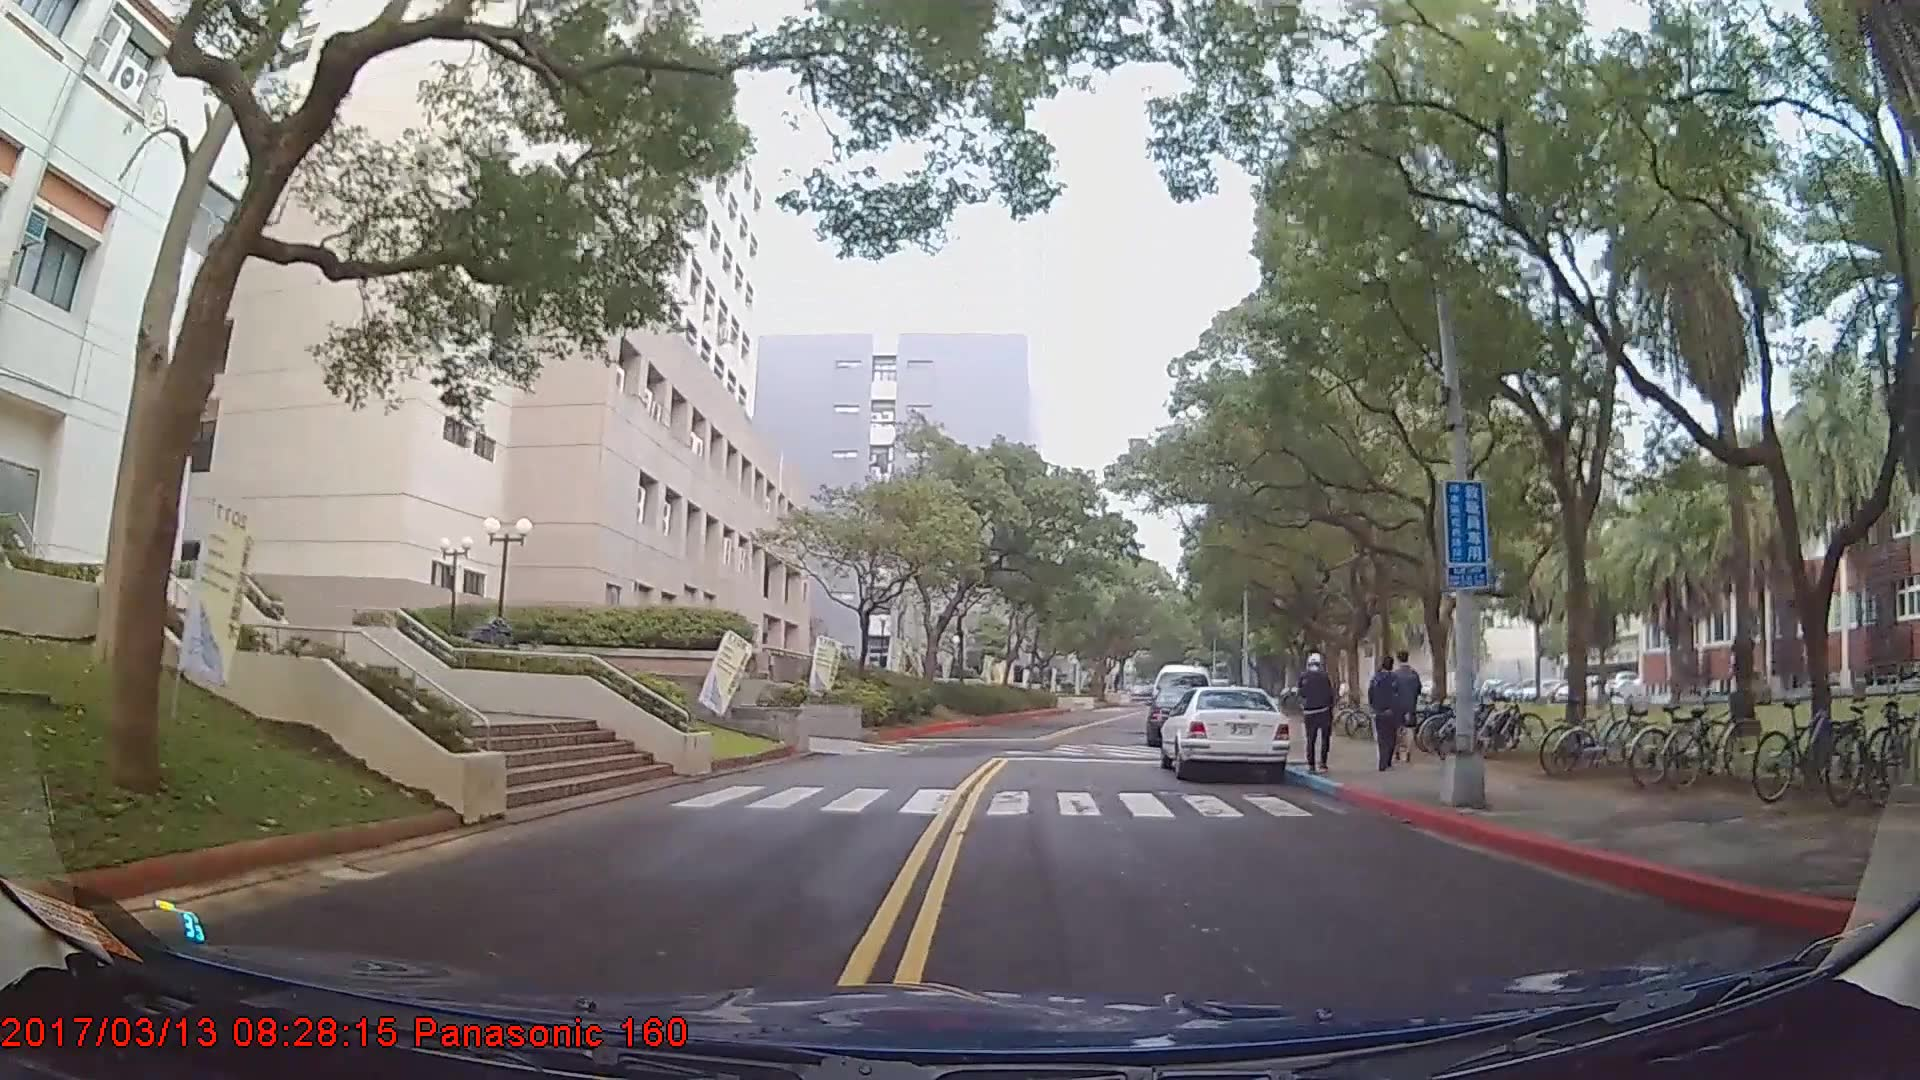pedestrian: (1370, 646, 1411, 772), (1303, 654, 1336, 773)
vehicle: (1156, 685, 1290, 782)
